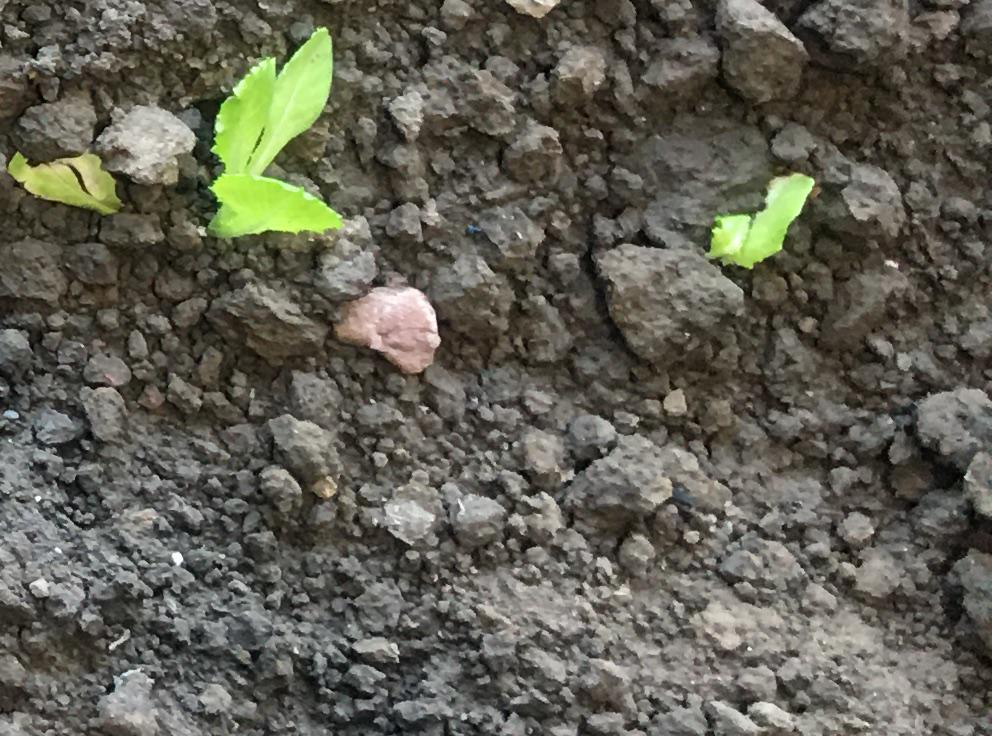block: (591, 240, 745, 362), (330, 278, 447, 369), (713, 1, 811, 109)
